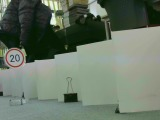speed_20: (4, 47, 25, 69)
